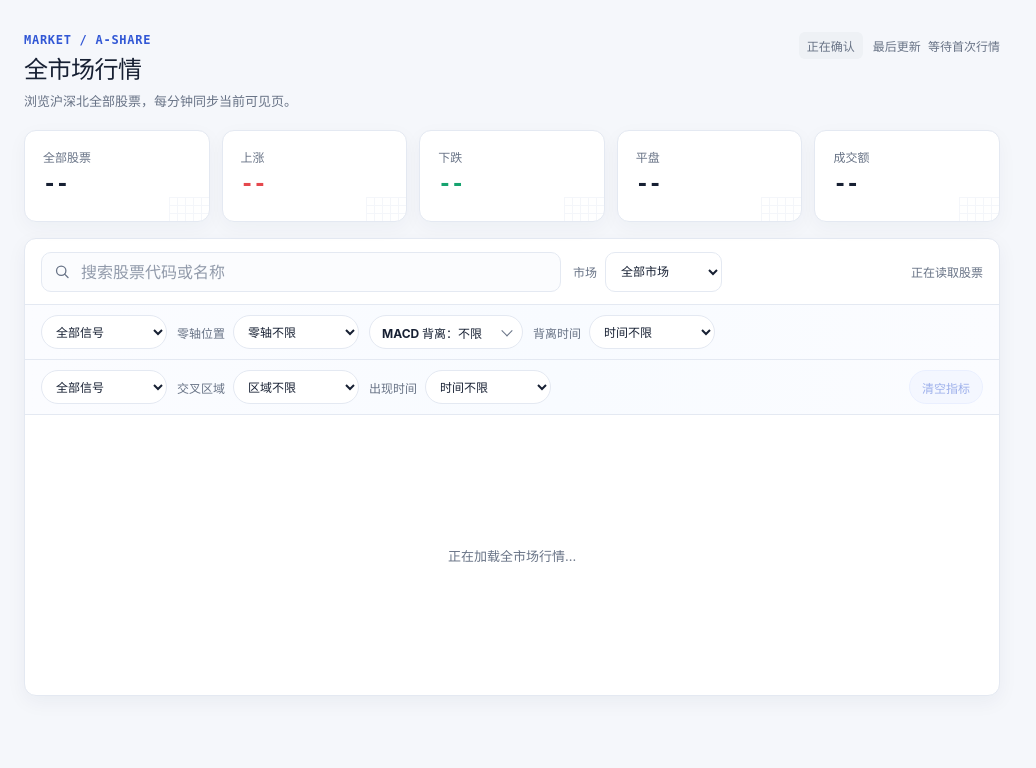
Test: 较早的异步响应不会覆盖较新的查询结果
Type "600519" into the field with placeholder "搜索股票代码或名称" at (301, 272), box [41, 252, 561, 292]
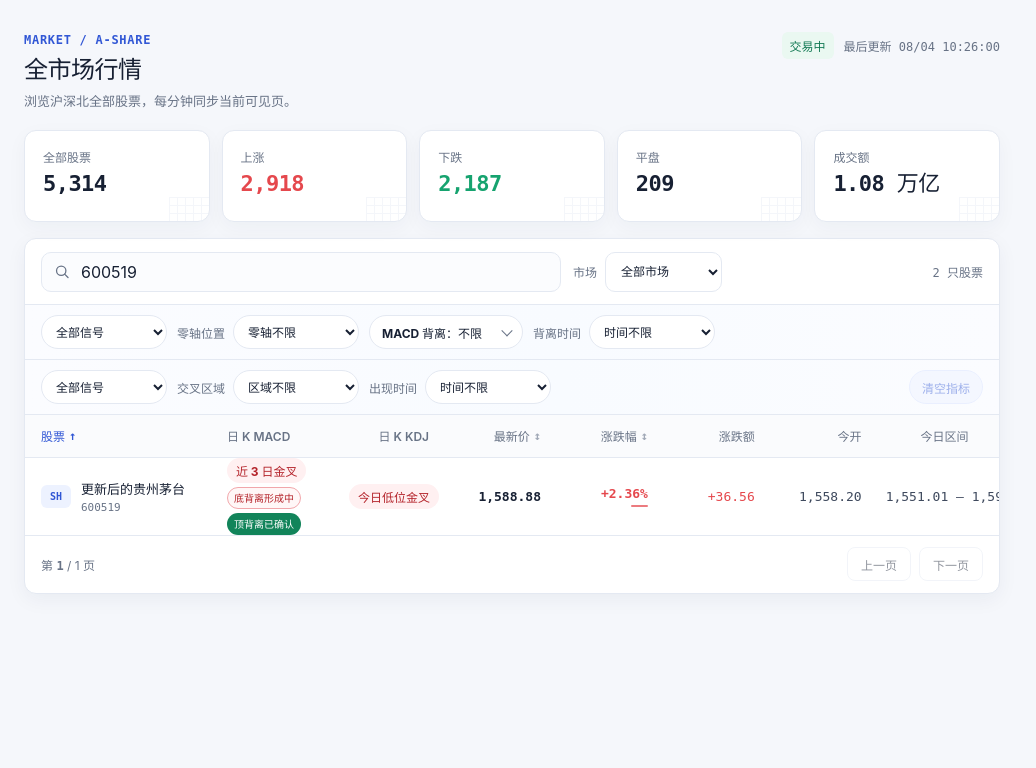
Result: the link "更新后的贵州茅台" is shown at [81, 479, 185, 498]
